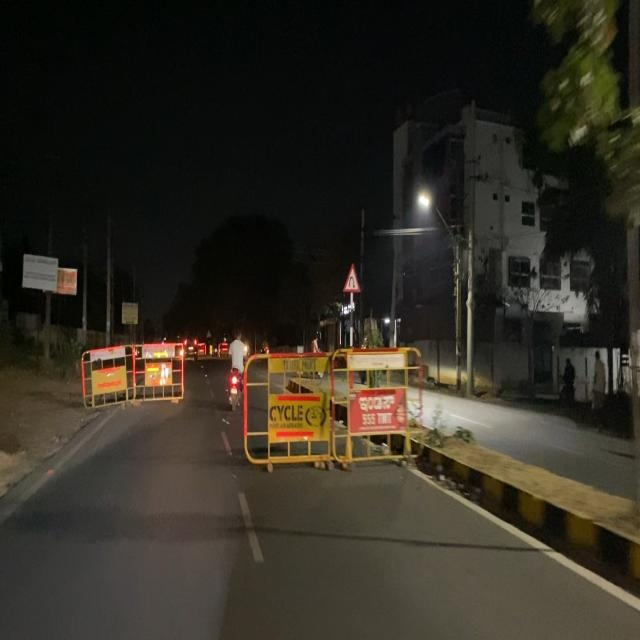bien_nguy_hiem: (343, 263, 361, 293)
